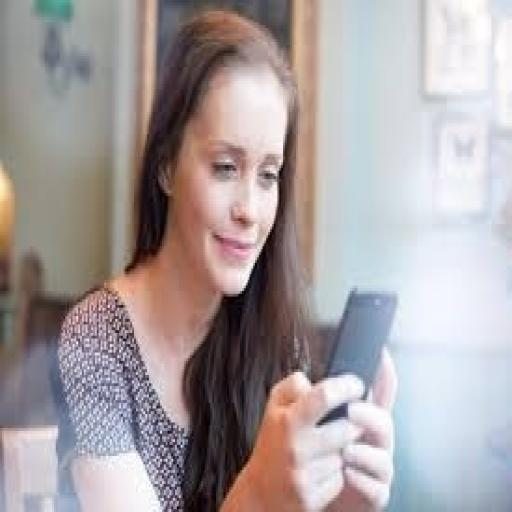texting: (52, 8, 400, 510)
